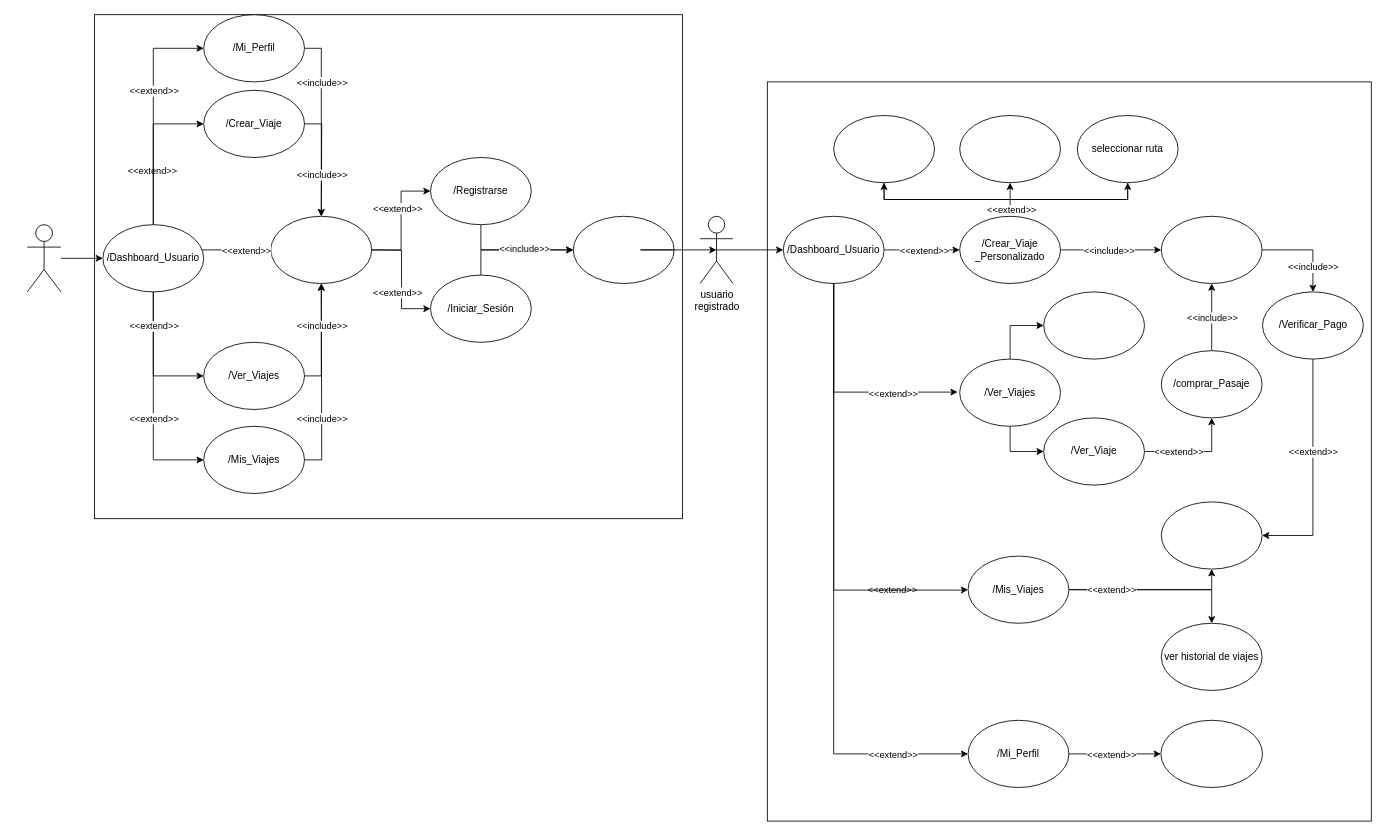
Some shapes in this 1386 by 836 pixel diagram are drawn without their labels. The shapes that lost their labels are listed below. From the top down, each one's centre as x and y in pixels, then its label:
At point (883, 149): "seleccionar vehiculo".
At point (1009, 149): "seleccionar fecha".
At point (43, 258): "usuario no registrado".
At point (321, 249): "/Log_In".
At point (623, 249): "validar credenciales".
At point (1211, 249): "/Abonar_Viaje".
At point (1093, 325): "/Categorizar_Viajes".
At point (1211, 535): "ver viajes reservados".
At point (1211, 753): "/Editar_Perfil".
